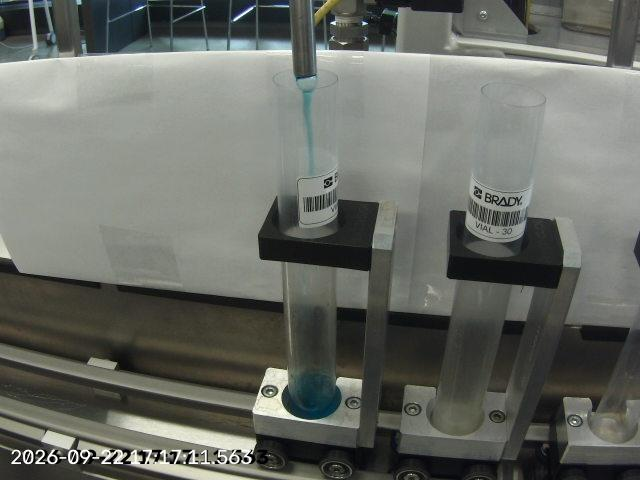vial: (429, 81, 549, 434), (270, 67, 341, 423)
